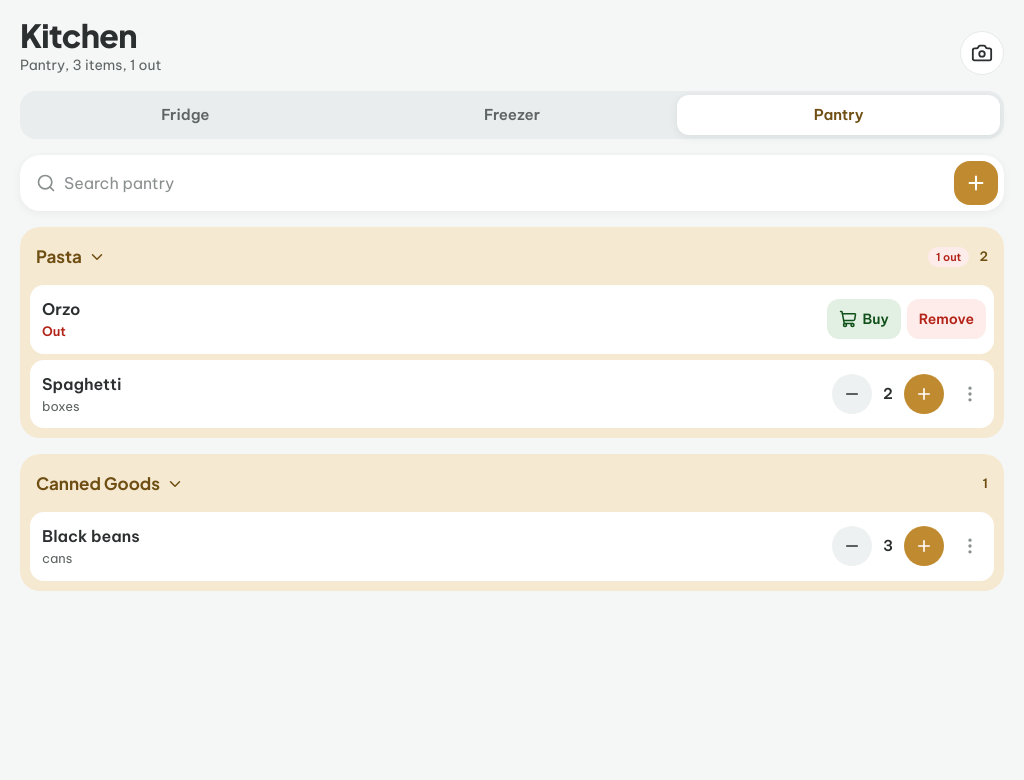
Scenario: Kitchen › stepper taps write the new quantity and a row that reaches zero shows Out
The width and height of the screenshot is (1024, 780).
Expected: the text "Spaghetti" is shown, [42, 374, 122, 394]
Click the button named "Fewer Spaghetti" at point(852, 394), box [832, 374, 872, 414]
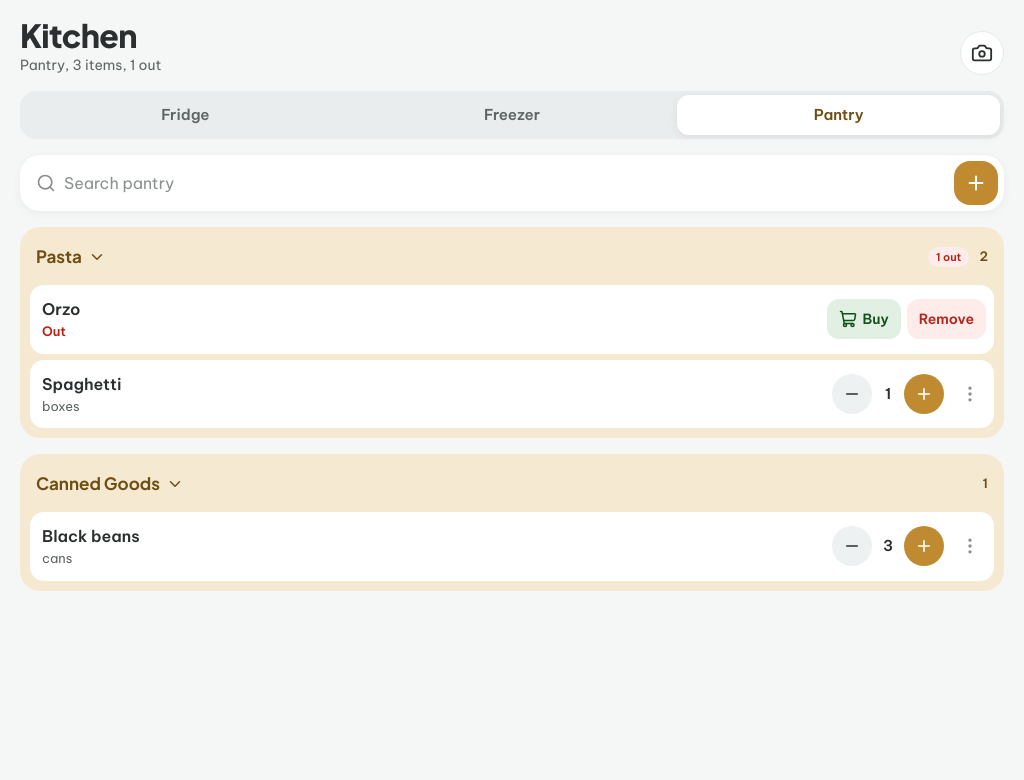
Click the button named "Fewer Spaghetti" at point(852, 394), box [832, 374, 872, 414]
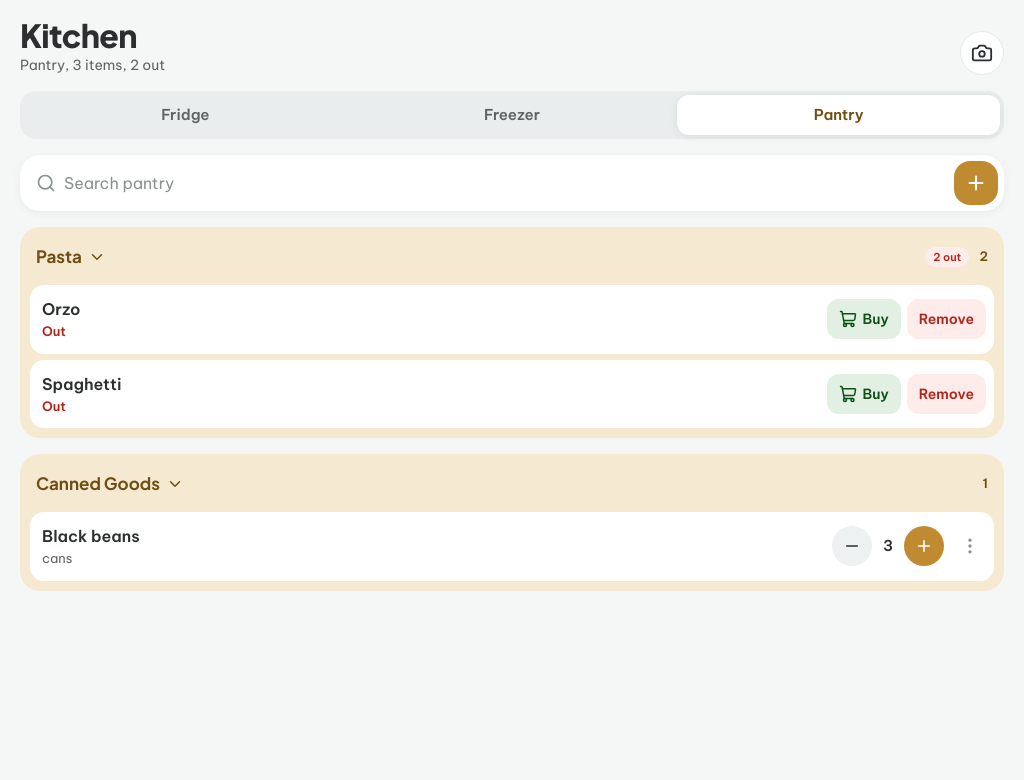
Expected: the button with aria-label "Remove Spaghetti" is shown, [907, 374, 986, 414]
